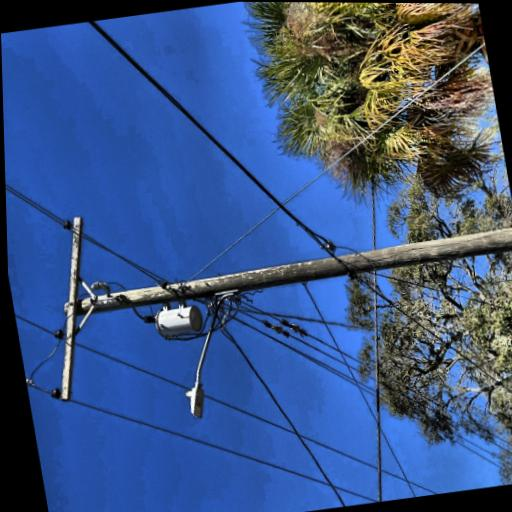insulator: (68, 188, 80, 204), (14, 182, 26, 195), (168, 205, 179, 219)
pole: (93, 193, 182, 512)
street light: (18, 322, 129, 413)
transformer: (75, 301, 111, 360)
